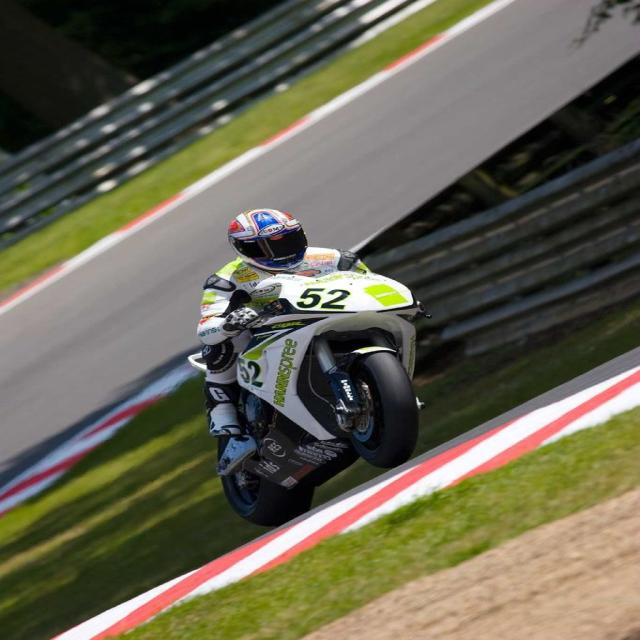Motorbikes: (158, 200, 429, 528)
